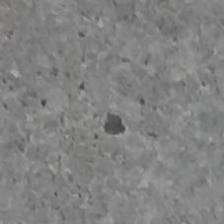Crack: (85, 111, 146, 145)
Non_Crack: (15, 12, 216, 92)
